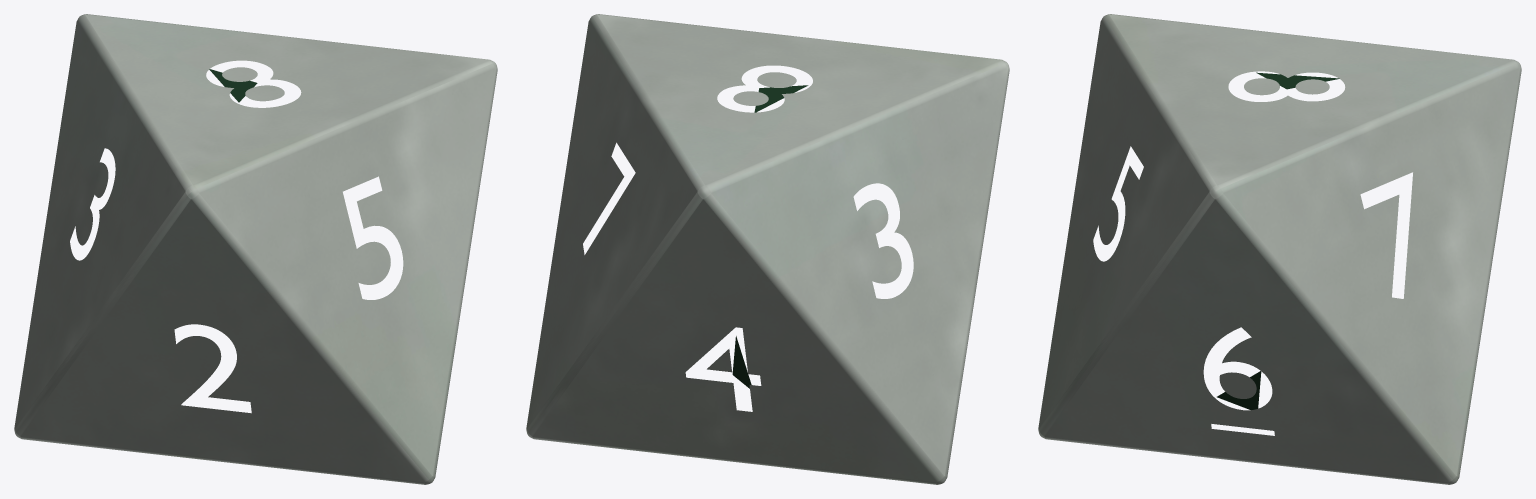
3 renders of one model, left to right at view 1: azimuth 30°, elevation 25°; view 2: azimuth 150°, elevation 25°; view 3: azimuth 270°, elevation 25°, orthographic.
Parts seen in each view (by area): view 1: Jade D8; view 2: Jade D8; view 3: Jade D8.
Part boxes in pixels (x1,y1,x2,y2): Jade D8: (14,14,497,484); Jade D8: (526,14,1009,484); Jade D8: (1038,14,1521,484).
Size of the model in its own units: 1.12 by 0.8314 by 1.12.
2 materials, 1 textured.
